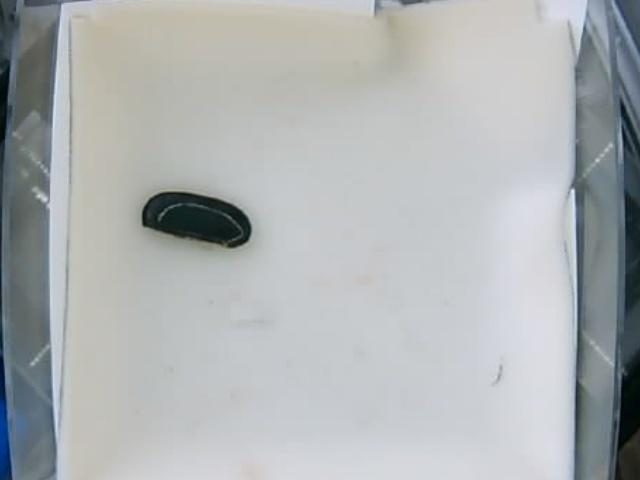Pebble: (139, 188, 252, 250)
